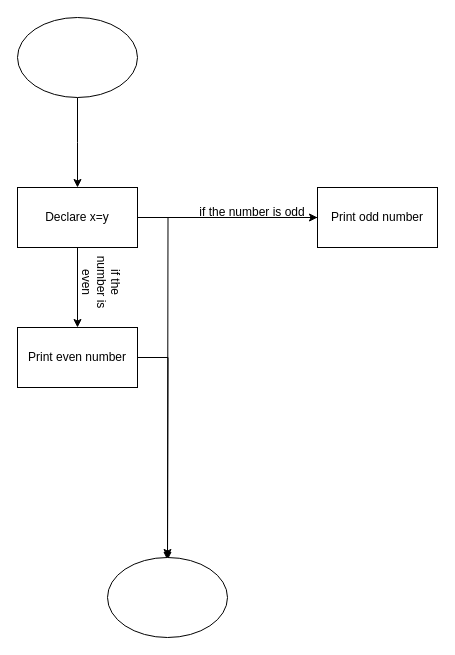
This 455x655 diagram has some shape labels left out. Here are the shapes that lost their labels. From the top down, the centre of each, then its label:
[77,57]: start
[167,597]: stop
